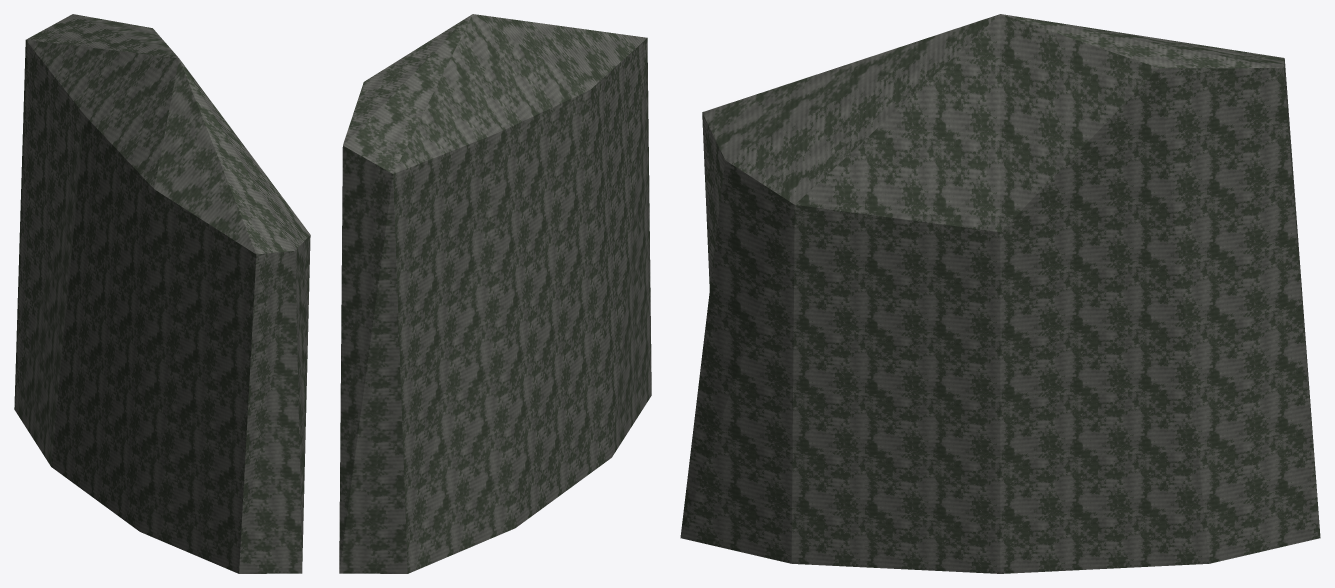
The model's file is Cliff63279_LOD2.fbx.
The picture shows the model from 3 angles, left to right: view 1: azimuth 30°, elevation 25°; view 2: azimuth 150°, elevation 25°; view 3: azimuth 270°, elevation 25°; orthographic projection. The views are drawn at different scales.
Parts seen in each view (by area): view 1: Cliff63279_LOD2; view 2: Cliff63279_LOD2; view 3: Cliff63279_LOD2.
Part boxes in pixels (bbox=[...]): Cliff63279_LOD2: bbox=[14, 14, 310, 573]; Cliff63279_LOD2: bbox=[339, 14, 651, 573]; Cliff63279_LOD2: bbox=[680, 14, 1320, 573].
Size of the model in its own units: 1248 by 3400 by 3742.
Materials: 1 (1 with a texture image).
